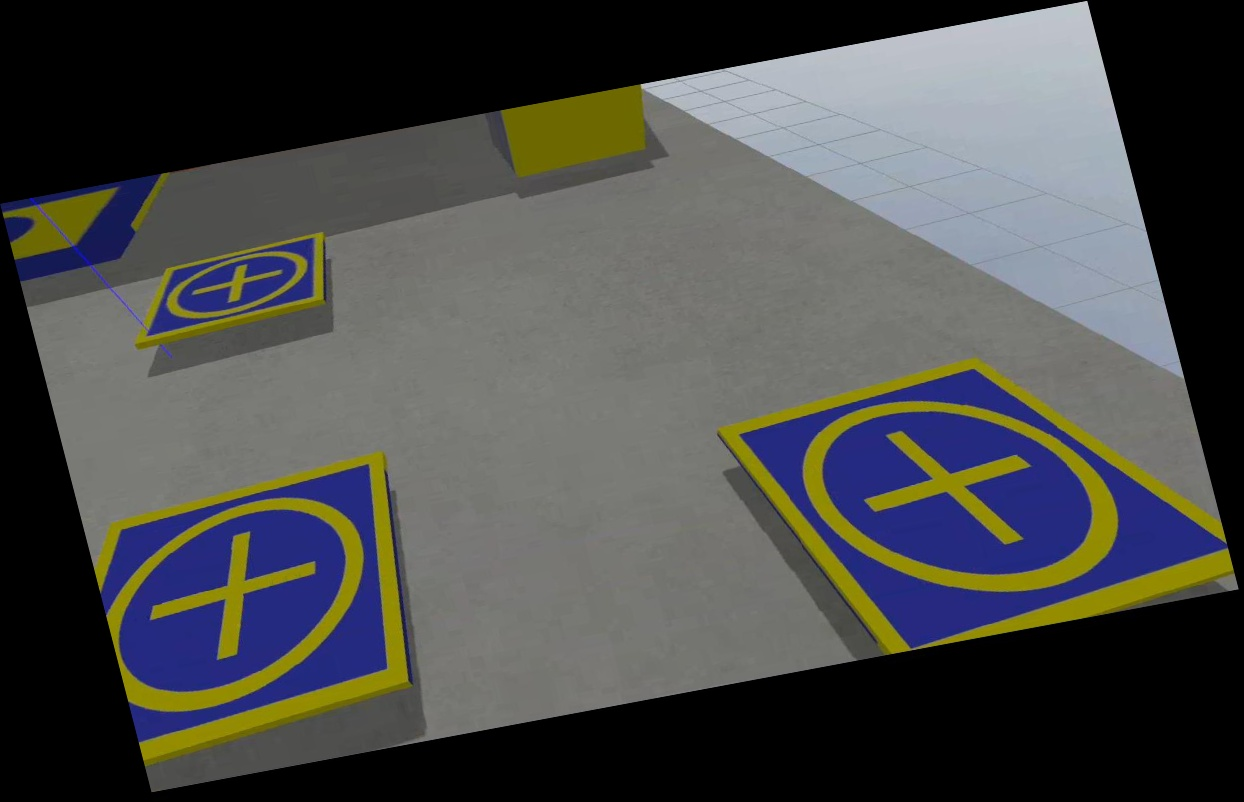large_base: (0, 171, 193, 280)
small_base: (708, 317, 1242, 679), (78, 447, 459, 766), (117, 225, 342, 345)
